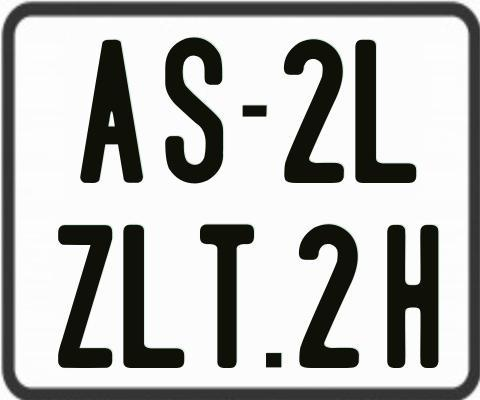2: (281, 38, 346, 186), (296, 222, 358, 370)
A: (79, 39, 145, 188)
H: (386, 223, 437, 366)
L: (122, 224, 188, 370), (355, 38, 420, 182)
S: (164, 35, 224, 185)
T: (198, 222, 253, 371)
Z: (55, 225, 114, 371)
